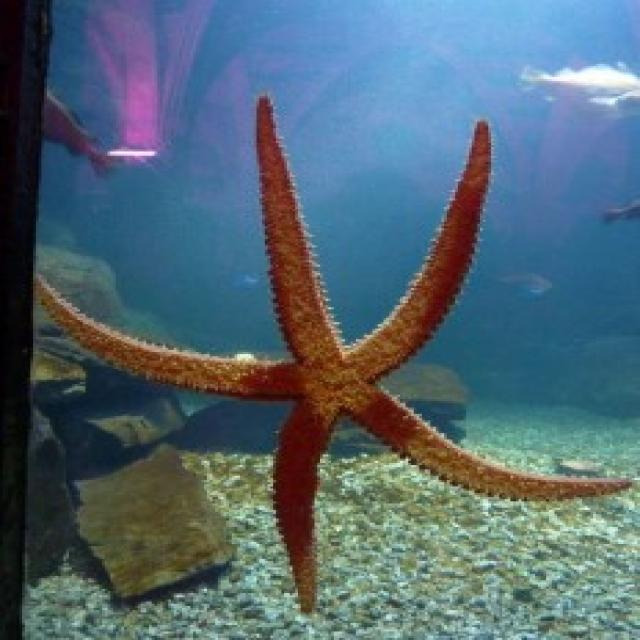Starfish: (27, 74, 640, 608)
